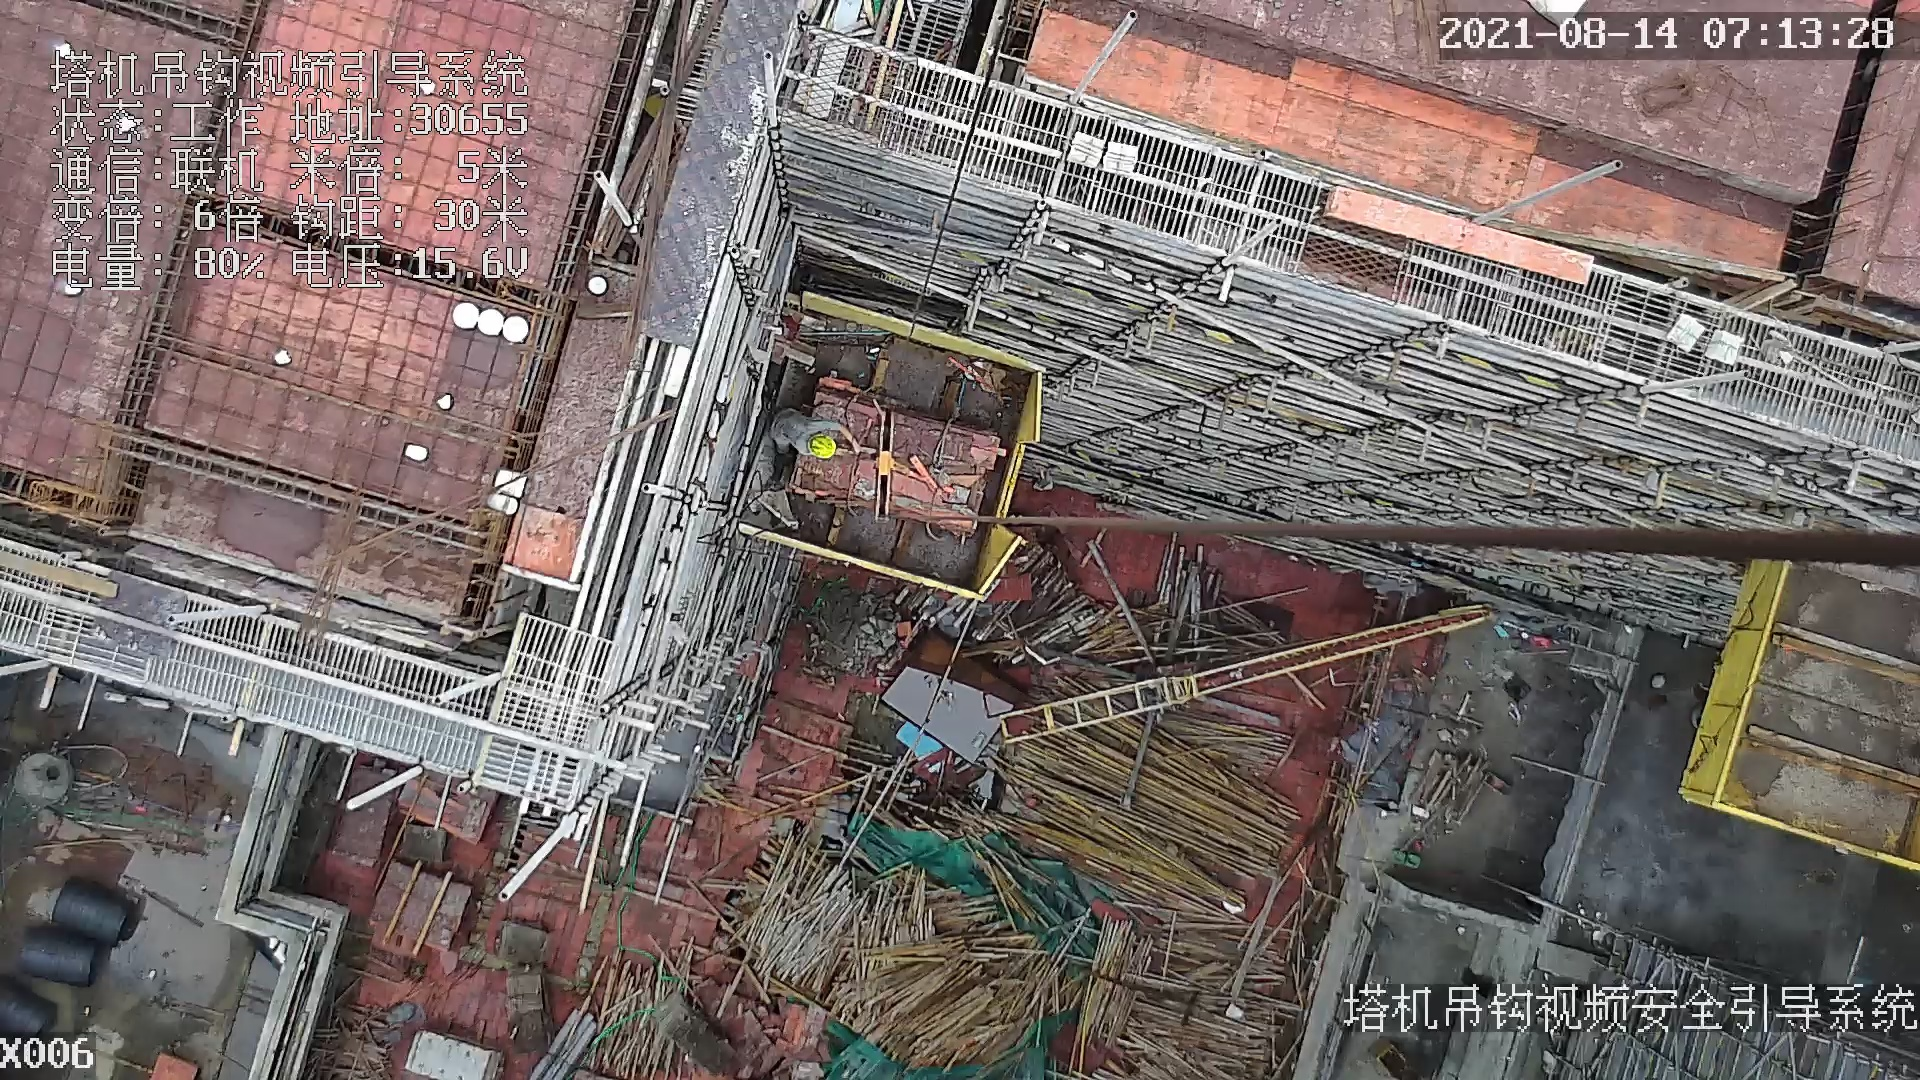helmet: (807, 430, 841, 463)
hook: (870, 410, 903, 521)
person: (767, 406, 865, 463)
